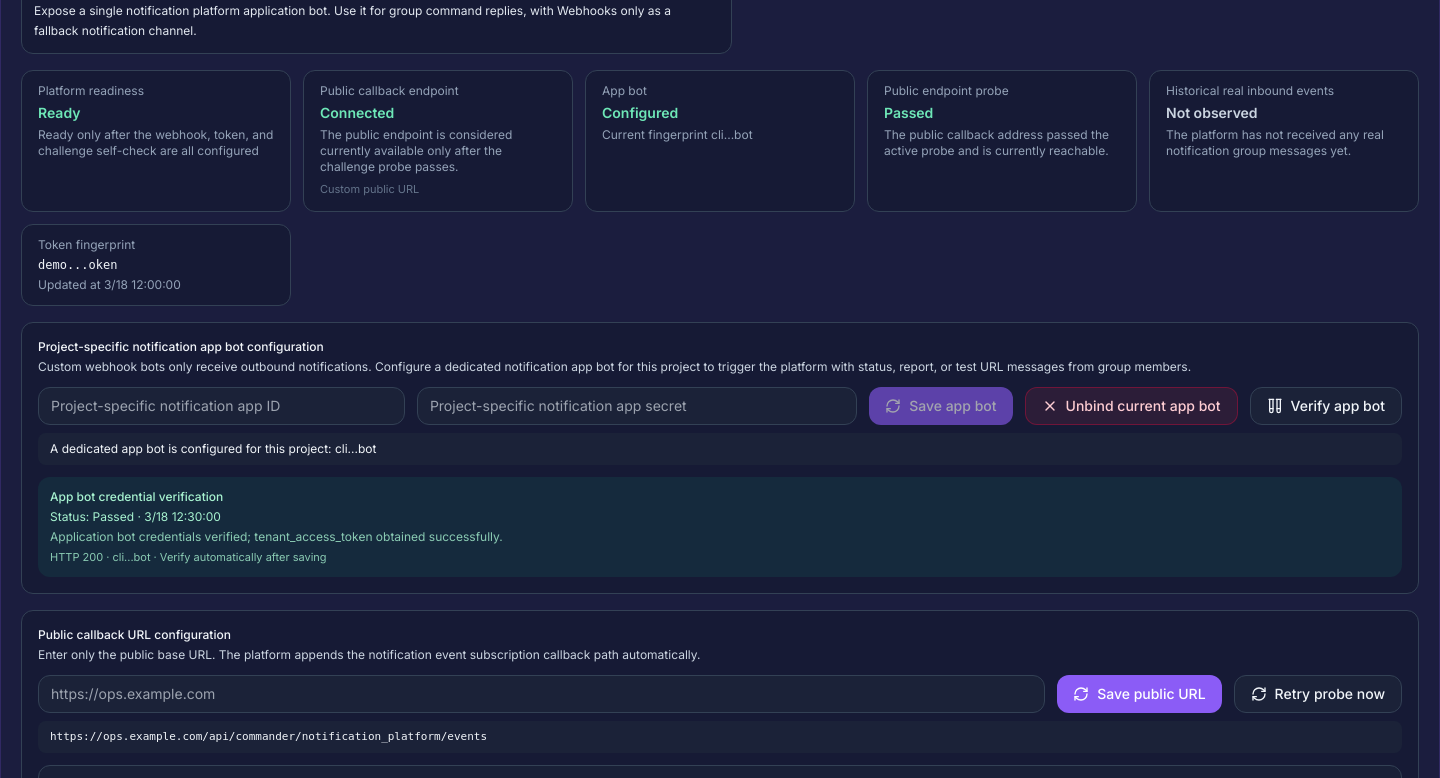
Test: NotificationPage › should unbind app bot credentials from notification page
(page scrolled)
Click the button "Unbind current app bot". click: (1131, 406)
box: [1024,387,1238,425]
(page scrolled)
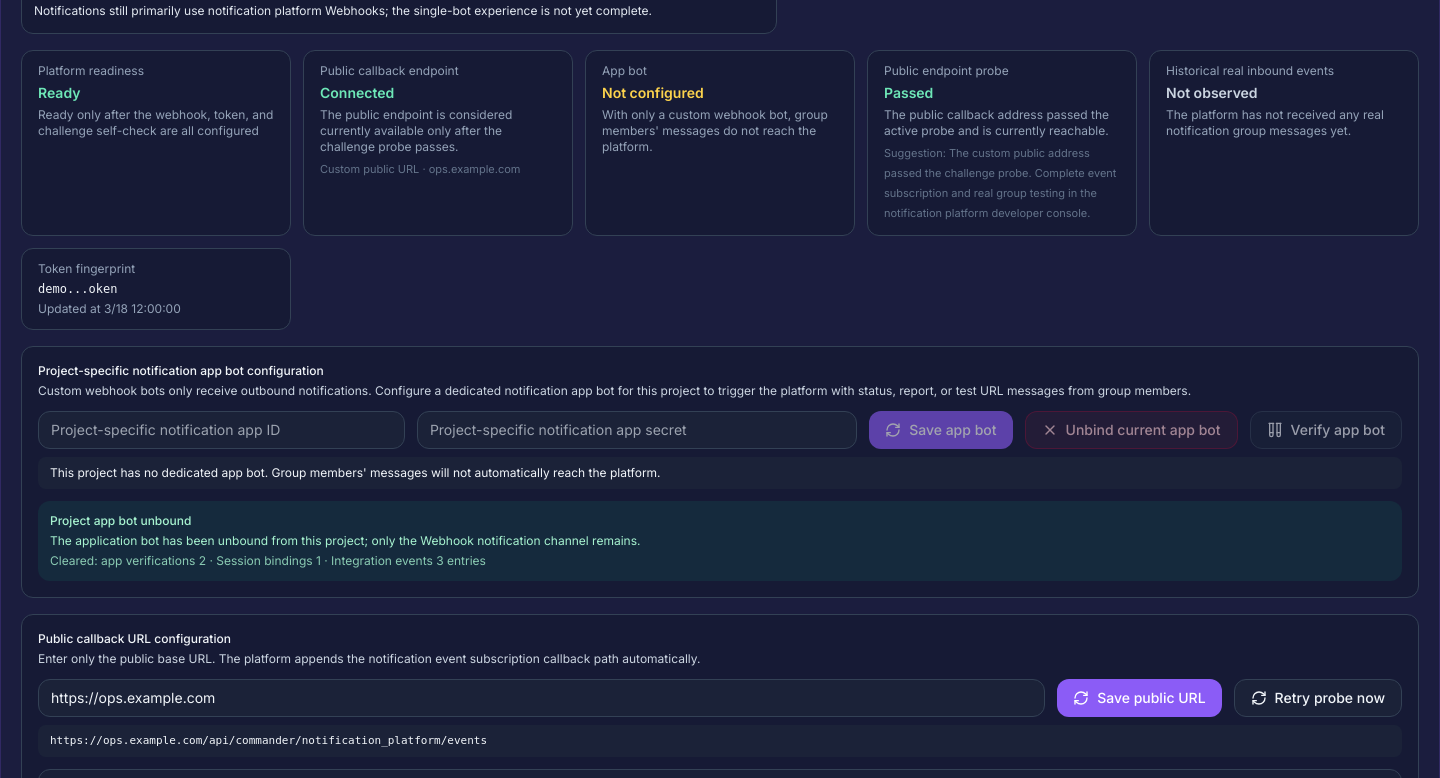
Expected: the text "Project app bot unbound" is shown, [50,513,191,528]
Expected: the text "Cleared: app verifications 2" is shown, [50,553,486,568]
